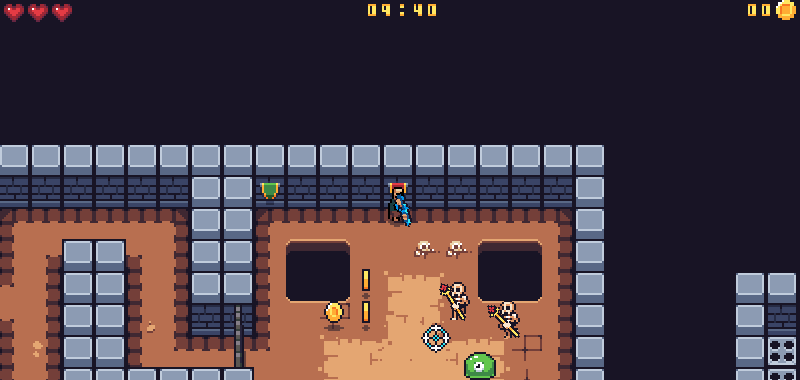enemy_skeleton: (486, 300, 523, 342), (437, 282, 470, 320)
enemy_slug_big: (460, 349, 498, 379)
gold: (320, 297, 349, 325), (356, 294, 376, 329), (356, 265, 376, 294)
